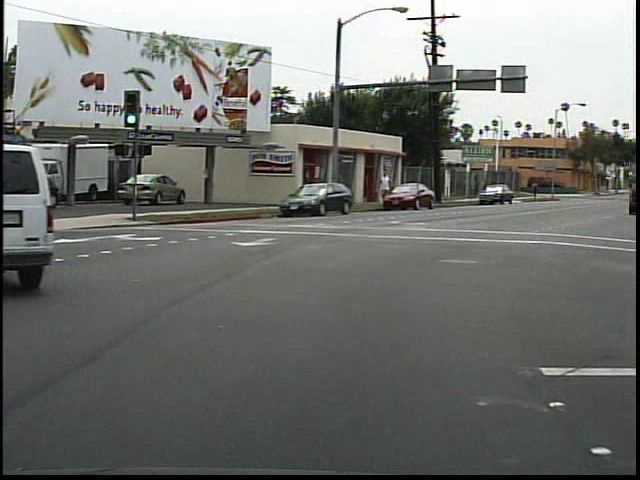person: (374, 166, 397, 210), (529, 177, 543, 203)
